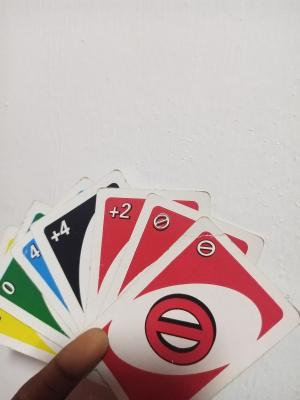-2: (103, 196, 134, 223)
num_0: (1, 275, 22, 300)
num_4: (22, 240, 47, 265)
skip: (143, 286, 221, 372), (148, 205, 172, 239), (194, 235, 222, 264)
wild-4: (43, 215, 76, 246)
